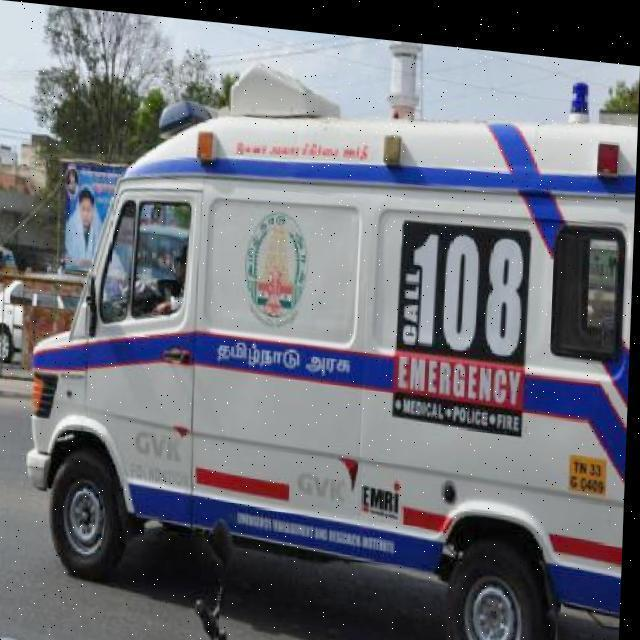Ambulance: (15, 21, 638, 640), (0, 383, 627, 640)
car: (0, 263, 92, 374)
